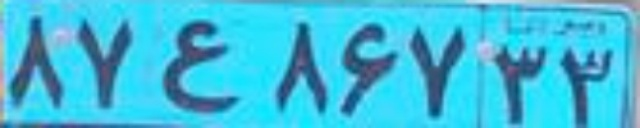3: (491, 45, 549, 125), (559, 46, 609, 127)
6: (338, 22, 398, 115)
7: (408, 25, 469, 117), (75, 17, 135, 108)
8: (9, 16, 66, 108), (272, 20, 327, 114)
ain: (156, 18, 239, 113)
